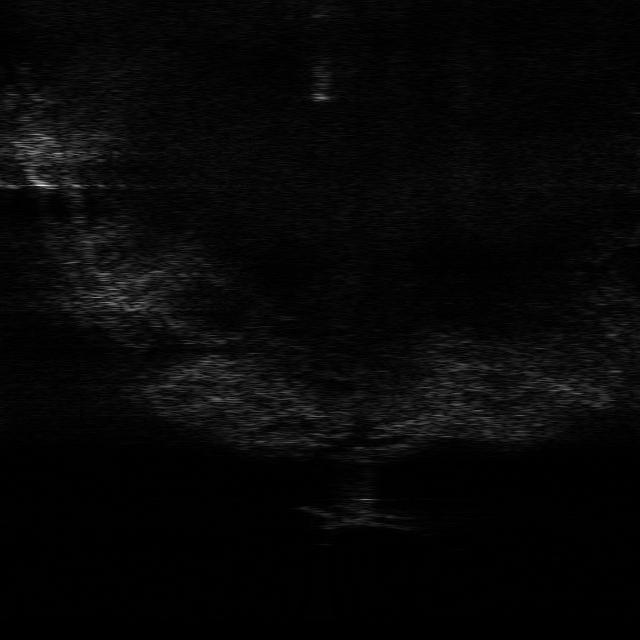plane: (299, 502, 416, 532)
